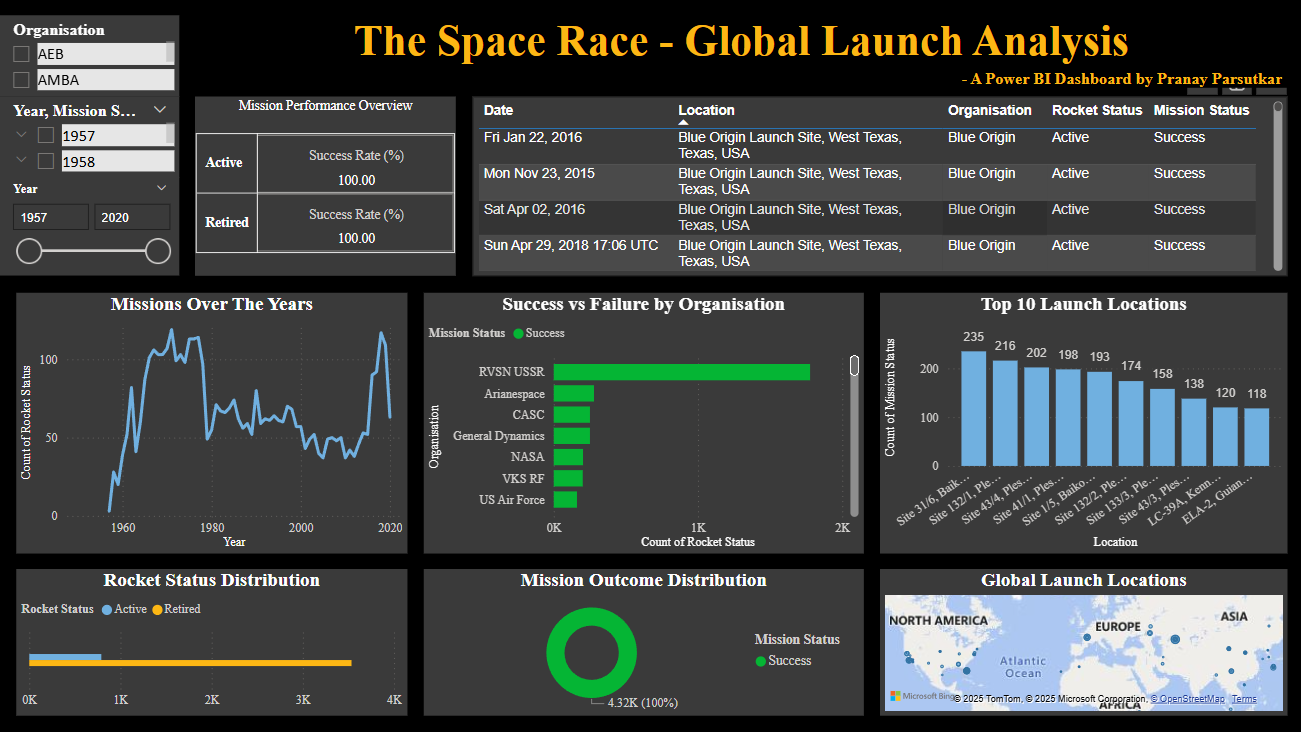

The dashboard page shown, as its layout file describes it:
{"tool":"powerbi","page":{"name":"Global Space Race Dashboard","canvas":[1280,720],"ordinal":0},"visuals":[{"type":"slicer","fields":{"Values":["space_missions.Year","space_missions.Mission Status"]},"box":[0,96,176,80],"z":0},{"type":"slicer","fields":{"Values":["space_missions.Year"]},"box":[0,176,176,96],"z":1000},{"type":"slicer","fields":{"Values":["space_missions.Organisation"]},"box":[0,16,176,80],"z":2000},{"type":"cardVisual","title":"Mission Performance Overview","fields":{"Rows":["space_missions.Rocket Status"],"Data":["space_missions.Success Rate (%)","space_missions.Success Rate (%)"]},"box":[192,96,256,176],"z":3000},{"type":"lineChart","title":"Missions Over The Years","fields":{"Category":["space_missions.Year"],"Y":["CountNonNull(space_missions.Rocket Status)"]},"box":[16,288,384,256],"z":4000},{"type":"barChart","title":"Success vs Failure by Organisation","fields":{"Category":["space_missions.Organisation"],"Y":["CountNonNull(space_missions.Rocket Status)"],"Series":["space_missions.Mission Status"]},"box":[416,288,432,256],"z":5000},{"type":"donutChart","title":"Mission Outcome Distribution","fields":{"Category":["space_missions.Mission Status"],"Y":["CountNonNull(space_missions.Rocket Status)"]},"box":[416,560,432,144],"z":6000},{"type":"tableEx","fields":{"Values":["space_missions.Date","space_missions.Location","space_missions.Organisation","space_missions.Rocket Status","space_missions.Mission Status"]},"box":[464,96,800,176],"z":7000},{"type":"clusteredBarChart","title":"Rocket Status Distribution","fields":{"Series":["space_missions.Rocket Status"],"Y":["CountNonNull(space_missions.Mission Status)"]},"box":[16,560,384,144],"z":8000},{"type":"lineClusteredColumnComboChart","title":"Top 10 Launch Locations","fields":{"Category":["space_missions.Location"],"Y":["CountNonNull(space_missions.Mission Status)"]},"box":[864,288,400,256],"z":9000},{"type":"map","title":"Global Launch Locations","fields":{"Category":["space_missions.Location"],"Size":["CountNonNull(space_missions.Mission Status)"]},"box":[864,560,400,144],"z":10000},{"type":"textbox","title":"The Space Race - Global Launch Analysis","box":[191.4,16,1072.4,71.2],"z":10001}]}

Visuals, with their boxes in screenshot pixels (x1, y1, x2, y2), scaled from the page's 1280x720 canvas onto the 1301x732 screenshot:
slicer - space_missions.Year x space_missions.Mission Status: rect(0, 98, 179, 179)
slicer - space_missions.Year: rect(0, 179, 179, 277)
slicer - space_missions.Organisation: rect(0, 16, 179, 98)
"Mission Performance Overview" cardVisual: rect(195, 98, 455, 277)
"Missions Over The Years" lineChart: rect(16, 293, 407, 553)
"Success vs Failure by Organisation" barChart: rect(423, 293, 862, 553)
"Mission Outcome Distribution" donutChart: rect(423, 569, 862, 716)
tableEx - space_missions.Date x space_missions.Location: rect(472, 98, 1285, 277)
"Rocket Status Distribution" clusteredBarChart: rect(16, 569, 407, 716)
"Top 10 Launch Locations" lineClusteredColumnComboChart: rect(878, 293, 1285, 553)
"Global Launch Locations" map: rect(878, 569, 1285, 716)
"The Space Race - Global Launch Analysis" textbox: rect(195, 16, 1285, 89)
